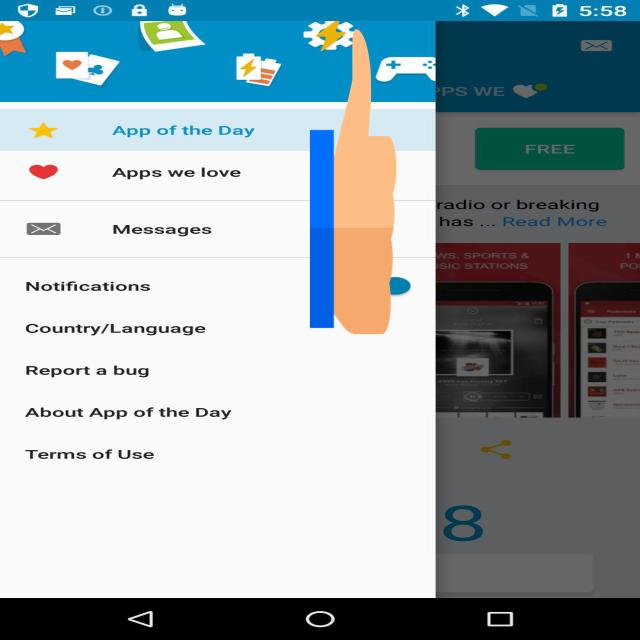privacy zuckering: (310, 21, 396, 342)
